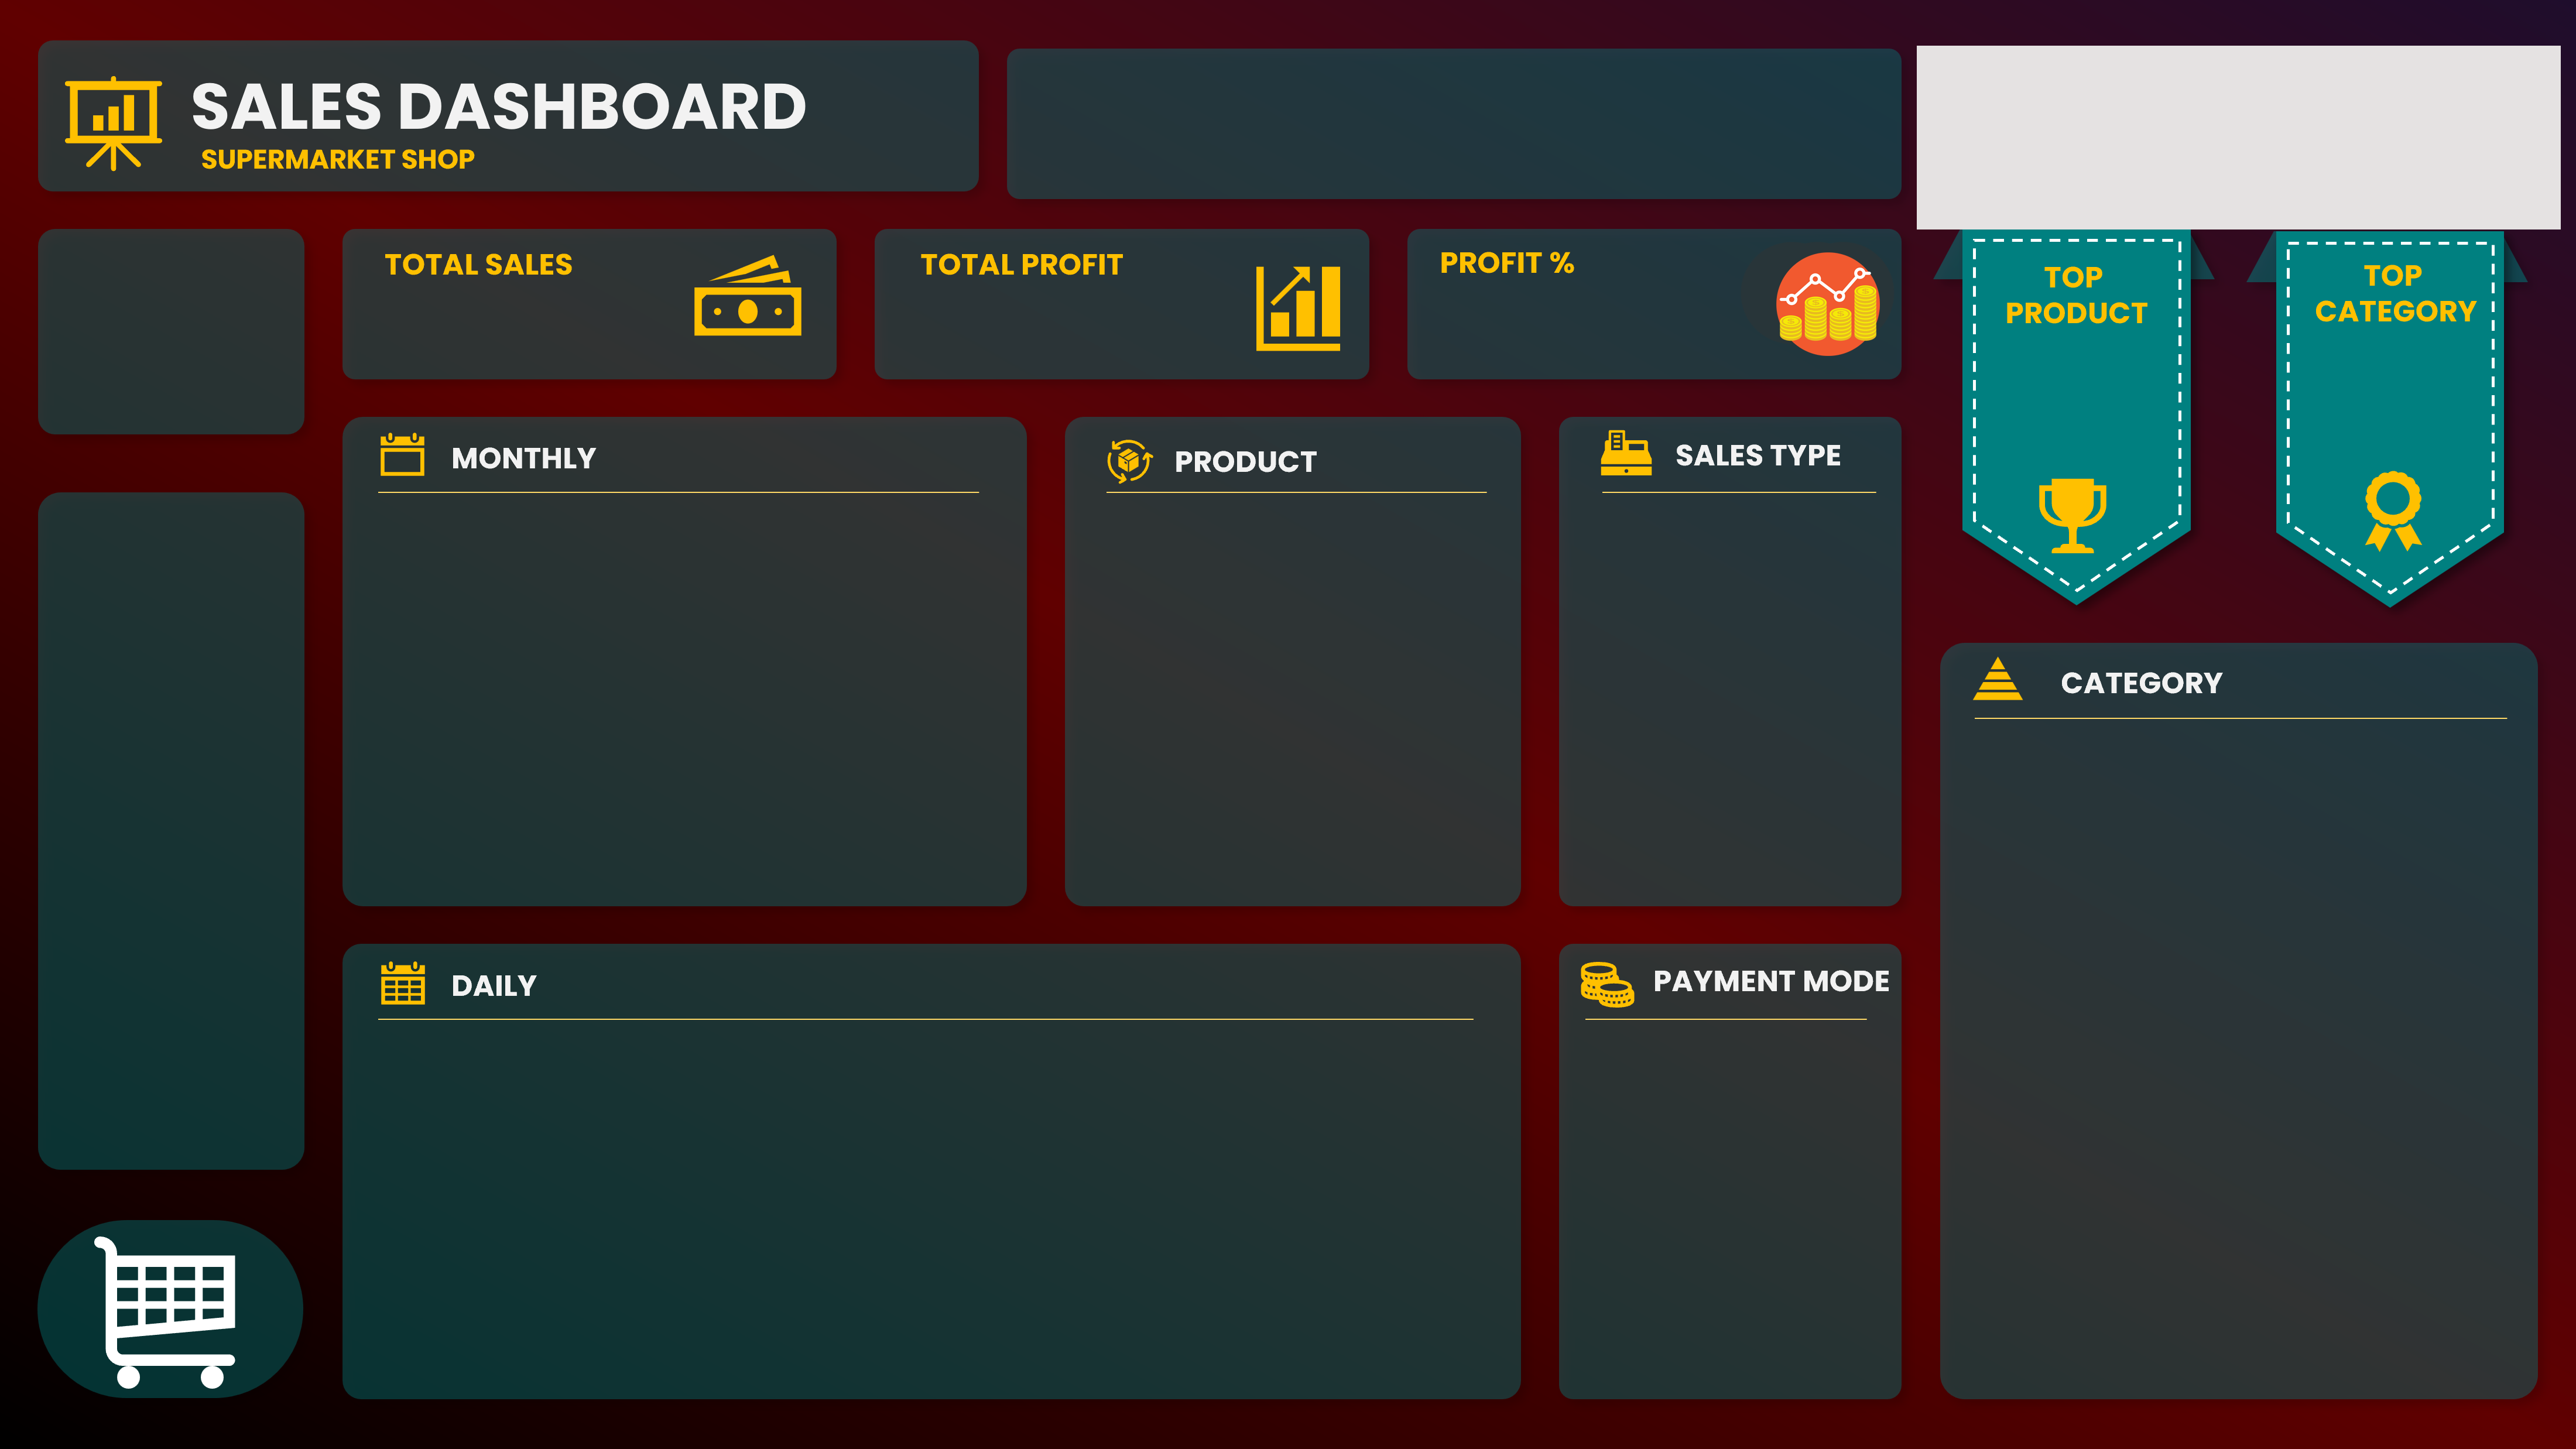

The page's visual inventory and layout, read from the dashboard file:
{"tool":"powerbi","page":{"name":"Page 1","canvas":[1280,720],"ordinal":0},"visuals":[{"type":"columnChart","fields":{"Category":["InputData.Month Name"],"Y":["Sum(InputData.Total selling Value)","InputData.Profit"]},"box":[149.8,201,367.9,274.6],"z":0},{"type":"clusteredBarChart","fields":{"Y":["Sum(InputData.Total selling Value)"],"Category":["InputData.MasterData.PRODUCT"]},"box":[503.7,235.4,253.2,250.5],"z":1000},{"type":"areaChart","fields":{"Y":["Sum(InputData.Day)","Sum(InputData.Total selling Value)"],"Category":["InputData.Day"]},"box":[163.8,470.7,587.7,240.9],"z":2000},{"type":"donutChart","fields":{"Y":["Sum(InputData.Total selling Value)"],"Category":["InputData.SALE TYPE"]},"box":[757,225.7,198.2,224.3],"z":3000},{"type":"donutChart","fields":{"Y":["Sum(InputData.Total selling Value)"],"Series":["InputData.PAYMENT MODE"]},"box":[757,484.5,209.2,213.3],"z":4000},{"type":"treemap","fields":{"Group":["InputData.MasterData.CATEGORY"],"Values":["Sum(InputData.Total selling Value)"]},"box":[966.2,360.6,287.7,330.3],"z":5000},{"type":"slicer","fields":{"Values":["InputData.Year"]},"box":[16.5,103.2,132.1,106],"z":6000},{"type":"slicer","fields":{"Values":["InputData.PAYMENT MODE"]},"box":[724,19.3,172,84],"z":7000},{"type":"slicer","fields":{"Values":["InputData.SALE TYPE"]},"box":[503.7,19.3,132.1,106],"z":8000},{"type":"slicer","fields":{"Values":["InputData.Month Name"]},"box":[27.5,218.8,136.3,381.2],"z":9000},{"type":"multiRowCard","fields":{"Values":["Sum(InputData.Total selling Value)"]},"box":[163.8,125.2,200.9,70.2],"z":10000},{"type":"multiRowCard","fields":{"Values":["Sum(InputData.Total selling Value)"]},"box":[1127.1,168,126,67.2],"z":11000},{"type":"multiRowCard","fields":{"Values":["InputData.MasterData.UOM"]},"box":[1001.2,208.3,99.1,99.1],"z":12000},{"type":"multiRowCard","fields":{"Values":["Sum(InputData.QUANTITY)"]},"box":[991.1,168,119.3,67.2],"z":13000},{"type":"multiRowCard","fields":{"Values":["InputData.profit %"]},"box":[692.3,125.2,200.9,70.2],"z":14000},{"type":"multiRowCard","fields":{"Values":["InputData.Profit"]},"box":[458.3,125.2,200.9,70.2],"z":15000},{"type":"stackedAreaChart","fields":{"Y":["InputData.Profit","InputData.profit %"],"Category":["InputData.Month Name"]},"box":[933.2,9.6,346.8,125.2],"z":15001}]}

Visuals, with their boxes in screenshot pixels (x1, y1, x2, y2), scaled from the page's 1280x720 canvas onto the 2576x1449 screenshot:
columnChart - InputData.Month Name x Sum(InputData.Total selling Value): Rect(302, 405, 1042, 957)
clusteredBarChart - Sum(InputData.Total selling Value) x InputData.MasterData.PRODUCT: Rect(1013, 474, 1523, 978)
areaChart - Sum(InputData.Day) x Sum(InputData.Total selling Value): Rect(330, 947, 1512, 1432)
donutChart - Sum(InputData.Total selling Value) x InputData.SALE TYPE: Rect(1523, 454, 1923, 906)
donutChart - Sum(InputData.Total selling Value) x InputData.PAYMENT MODE: Rect(1523, 975, 1944, 1405)
treemap - InputData.MasterData.CATEGORY x Sum(InputData.Total selling Value): Rect(1944, 726, 2523, 1390)
slicer - InputData.Year: Rect(33, 208, 299, 421)
slicer - InputData.PAYMENT MODE: Rect(1457, 39, 1803, 208)
slicer - InputData.SALE TYPE: Rect(1013, 39, 1280, 252)
slicer - InputData.Month Name: Rect(56, 440, 330, 1207)
multiRowCard - Sum(InputData.Total selling Value): Rect(330, 252, 734, 393)
multiRowCard - Sum(InputData.Total selling Value): Rect(2268, 338, 2522, 473)
multiRowCard - InputData.MasterData.UOM: Rect(2015, 419, 2214, 619)
multiRowCard - Sum(InputData.QUANTITY): Rect(1995, 338, 2235, 473)
multiRowCard - InputData.profit %: Rect(1393, 252, 1797, 393)
multiRowCard - InputData.Profit: Rect(922, 252, 1327, 393)
stackedAreaChart - InputData.Profit x InputData.profit %: Rect(1878, 19, 2575, 271)
